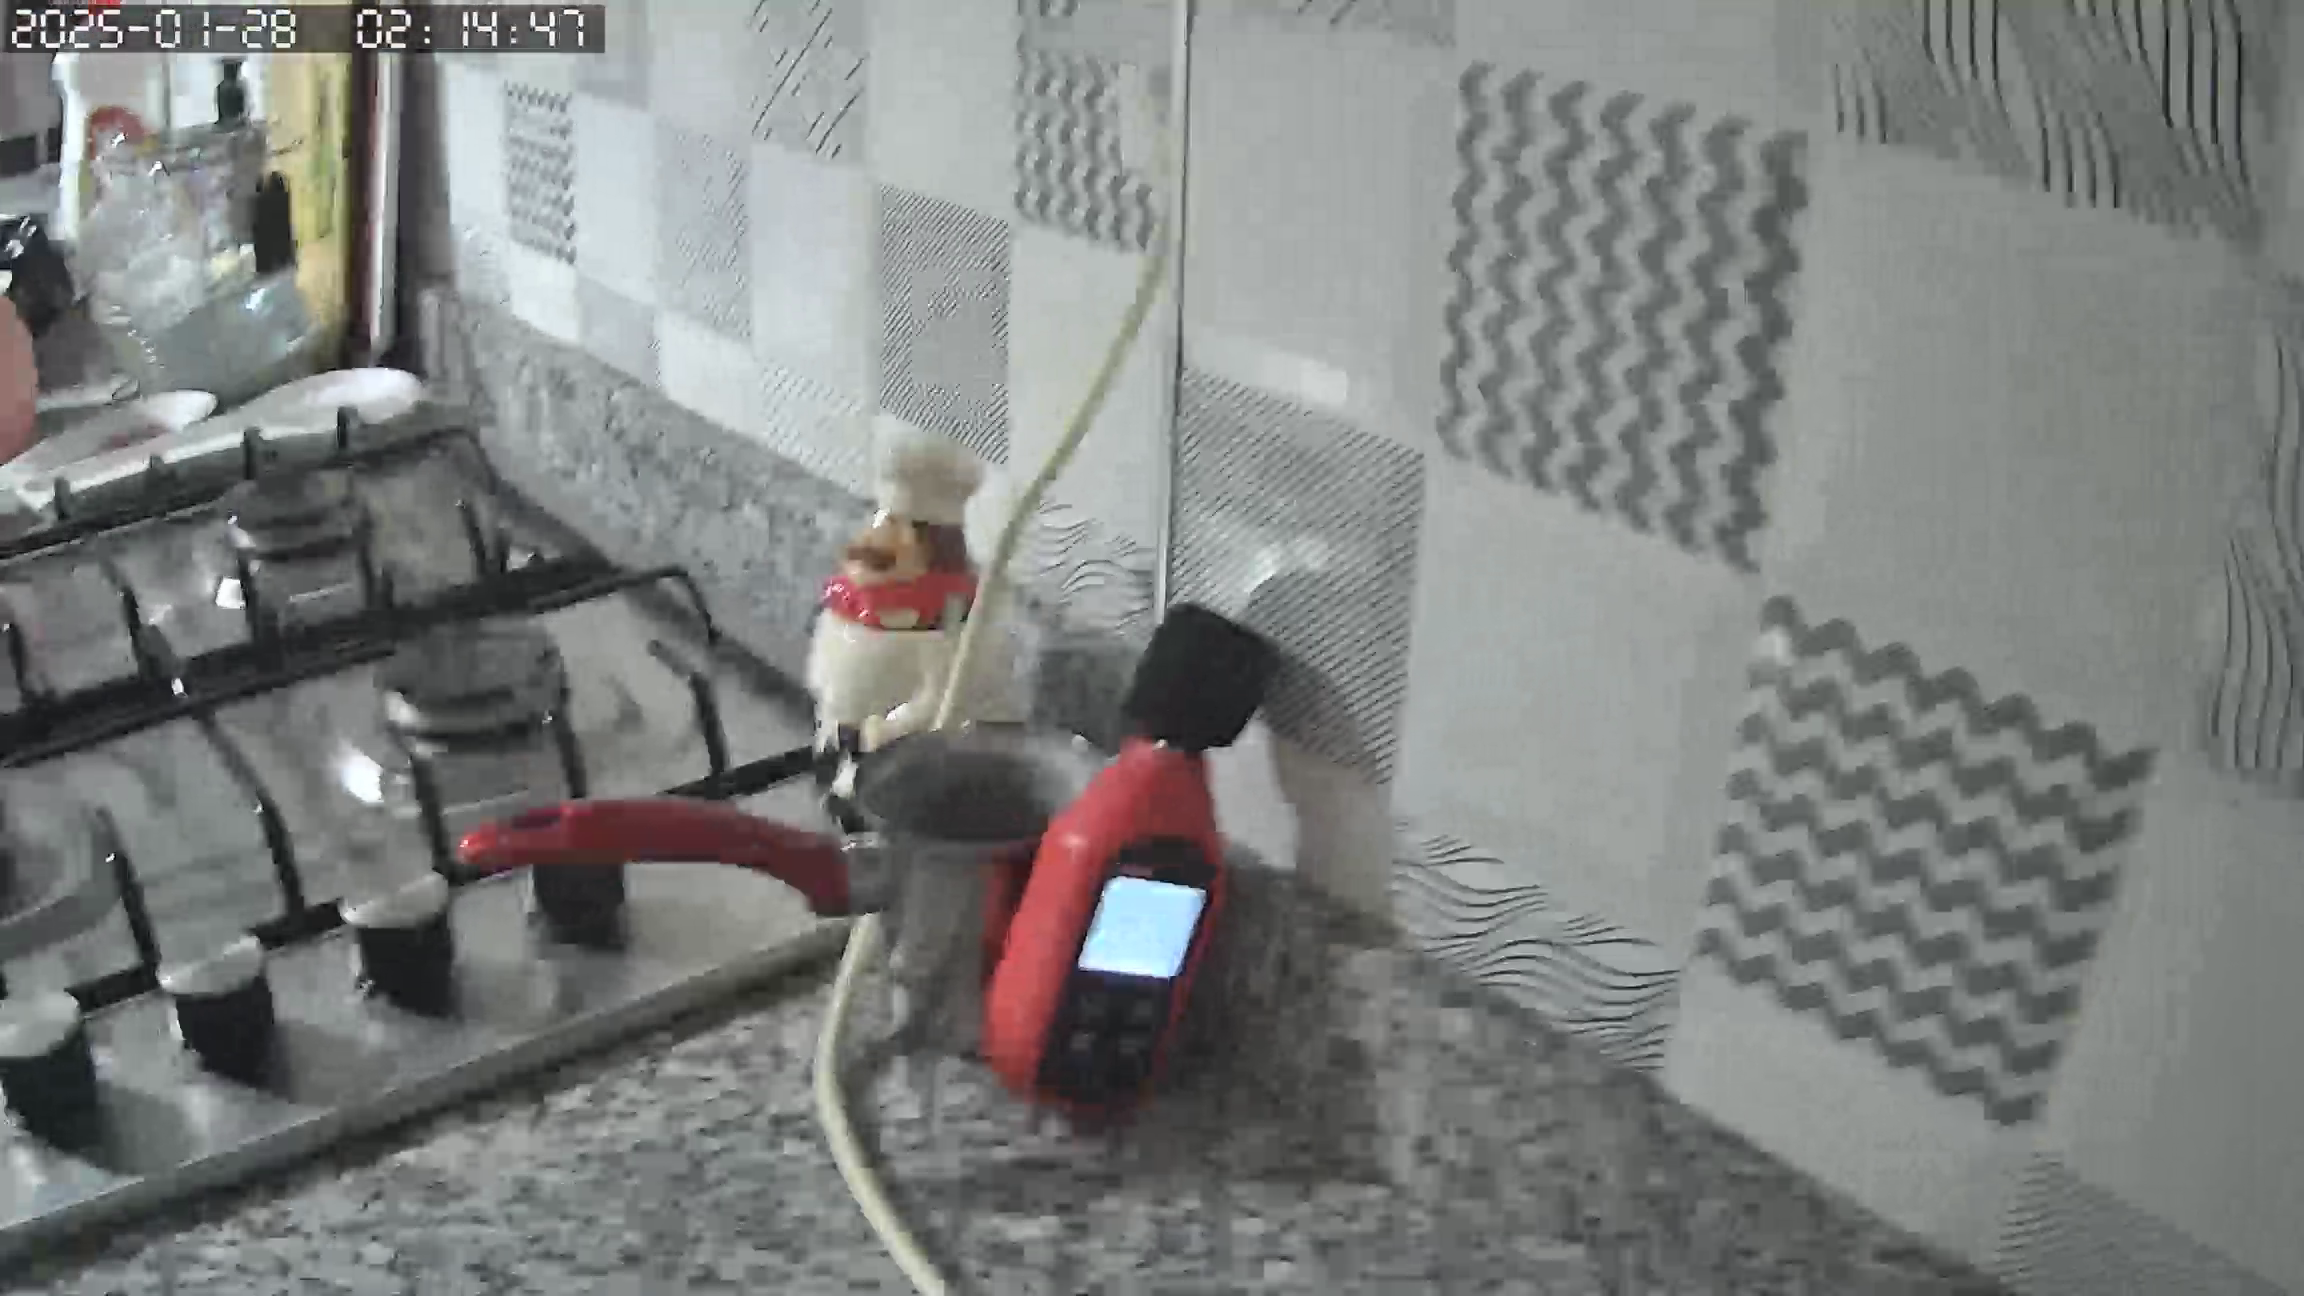screen: (1078, 872, 1212, 983)
